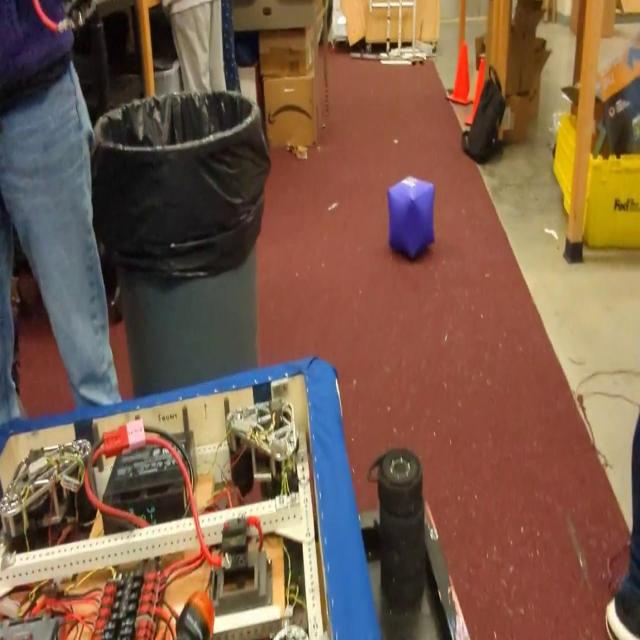frc_cube: (386, 175, 434, 261)
